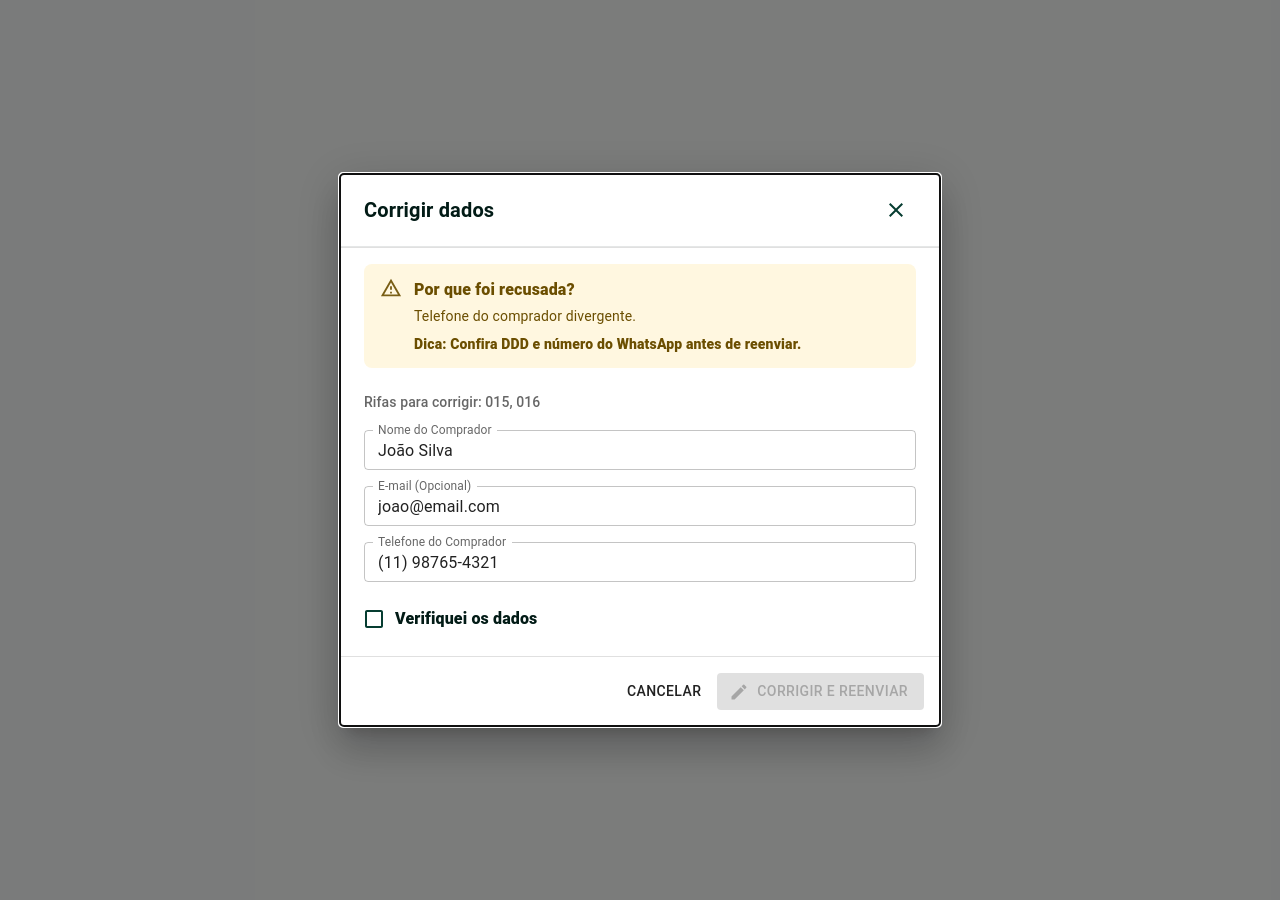
Test: Componente: ModalCorrecaoRecusa › Deve exigir confirmação dos dados antes de reenviar
expect the button "Corrigir e Reenviar" is disabled: met, box x1=717 y1=673 x2=924 y2=710
Click the checkbox labelled "Verifiquei os dados": {"x": 450, "y": 619} x1=362 y1=607 x2=538 y2=631
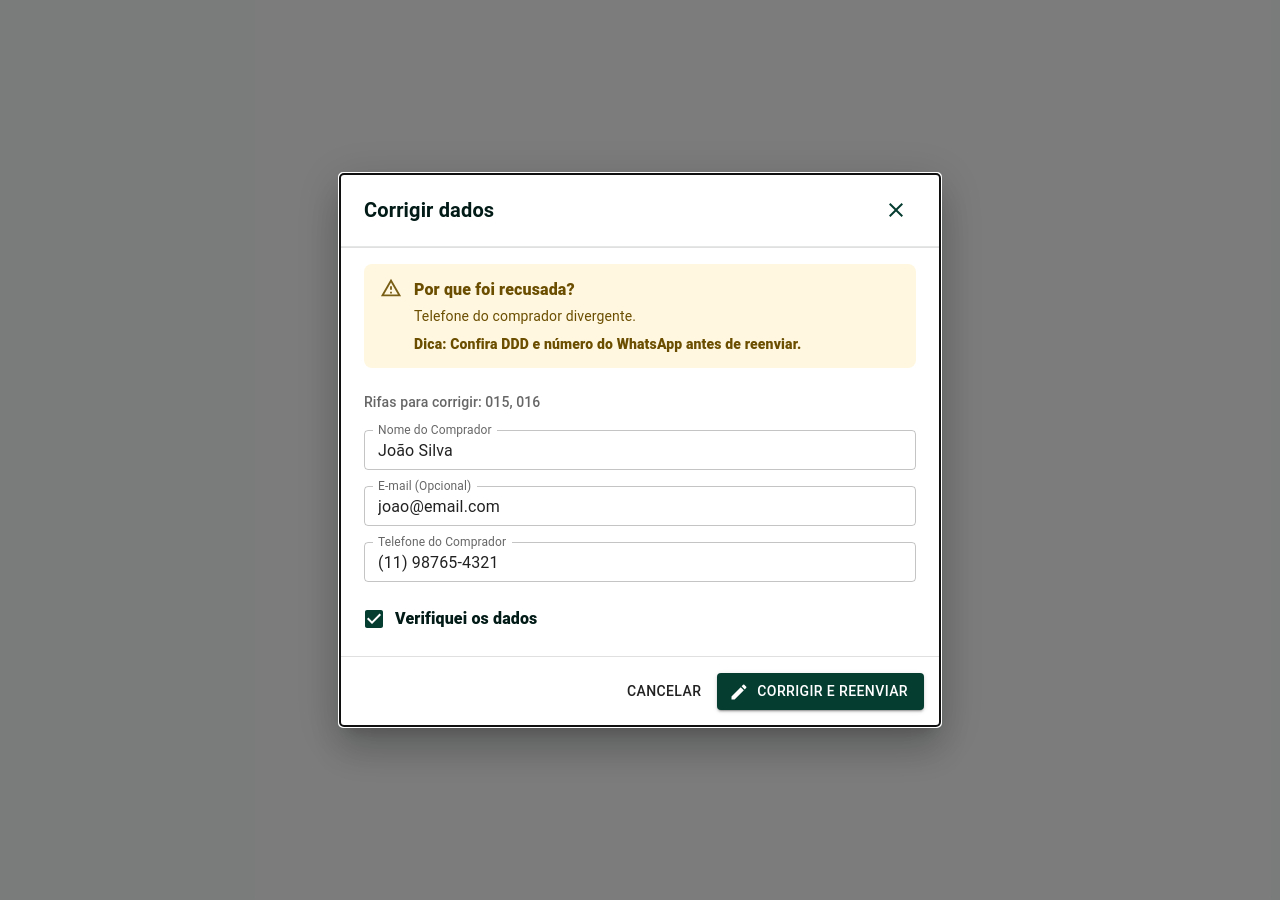
expect the button "Corrigir e Reenviar" is enabled: met, box x1=717 y1=673 x2=924 y2=710
